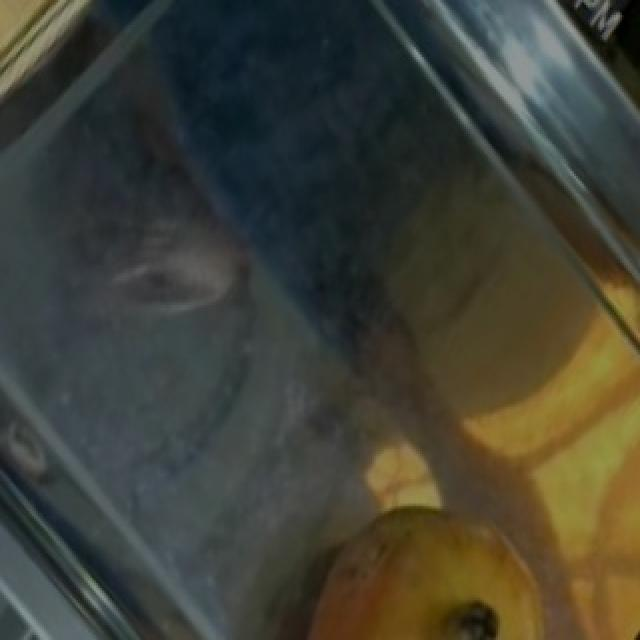fruit: (276, 476, 570, 640)
